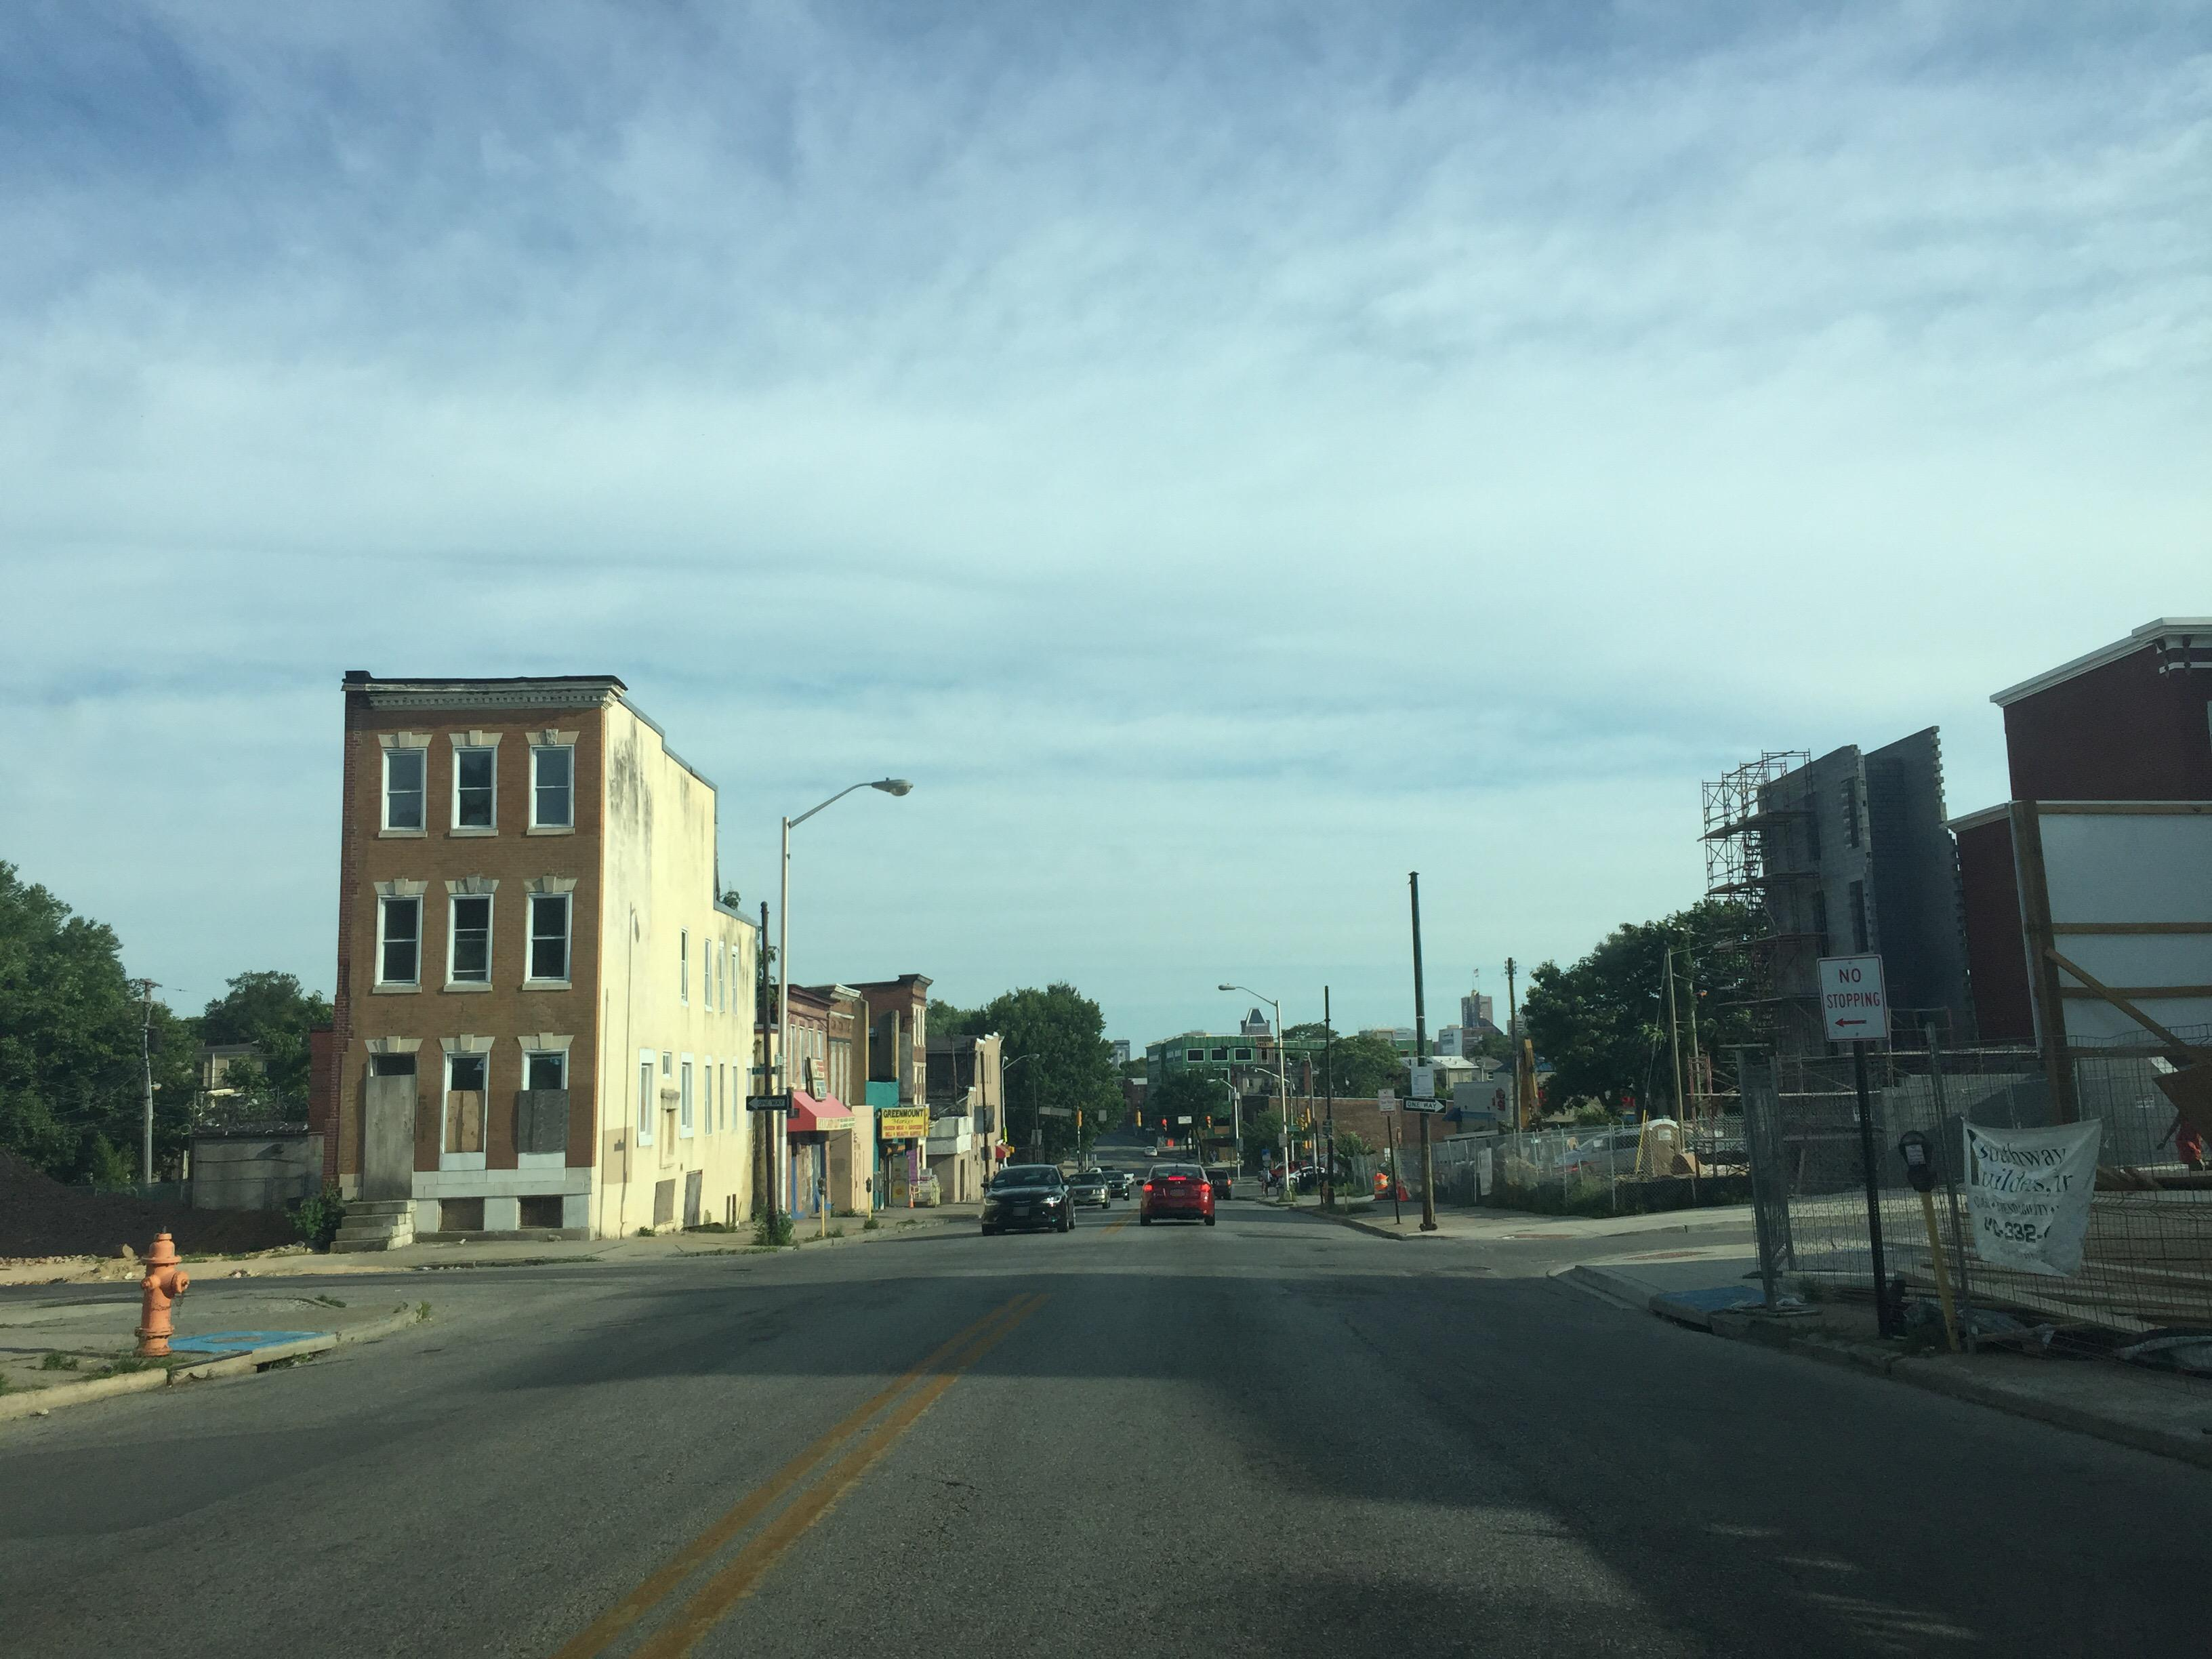vinyl banner: (1949, 1098, 2121, 1326)
